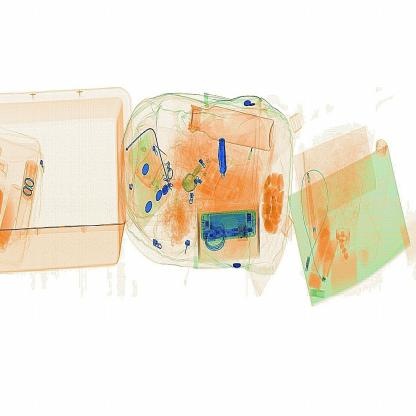knife: (210, 134, 239, 188)
